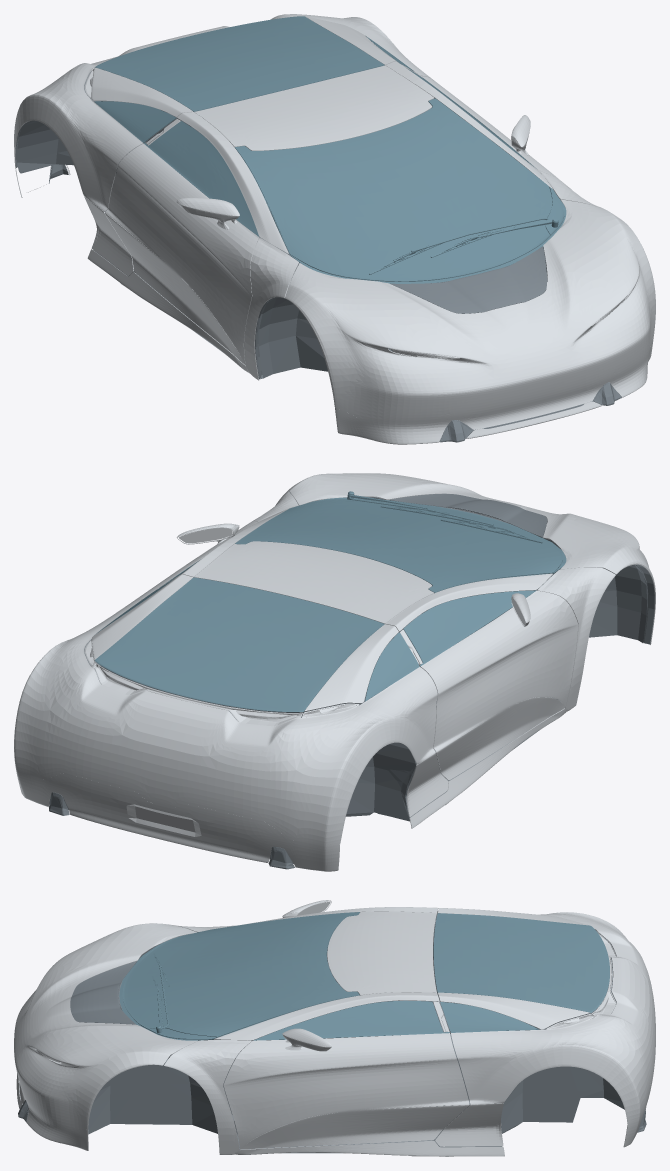
File: modular_base_clay.glb
3 views of the same model, one above another, from view 1: azimuth 30°, elevation 25°; view 2: azimuth 150°, elevation 25°; view 3: azimuth 270°, elevation 25° (orthographic). The views are drawn at different scales.
Visible parts, largest first — view 1: DONOR_BodyHood, DONOR_BodyWindshield, DONOR_BodyRearwindow, DONOR_BodyDoorRColor1, DONOR_BodyRearPanelsColor1, DONOR_BodyRoofPanel, DONOR_BodyPillars, DONOR_BodyUnderside, DONOR_BodyPanelsColor2, DONOR_BodyHoodTopgrill, DONOR_BodyDoorRWindow, DONOR_BodyDoorRColor2 (+6 smaller); view 2: DONOR_BodyRearPanelsColor1, DONOR_BodyRearwindow, DONOR_BodyWindshield, DONOR_BodyPanelsColor2, DONOR_BodyDoorRColor1, DONOR_BodyRoofPanel, DONOR_BodyHood, DONOR_BodyUnderside, DONOR_BodyPillars, DONOR_BodyDoorRColor2, DONOR_BodyDoorRWindow, DONOR_BodyHoodTopgrill (+5 smaller); view 3: DONOR_BodyWindshield, DONOR_BodyRearPanelsColor1, DONOR_BodyDoorLColor1, DONOR_BodyHood, DONOR_BodyRearwindow, DONOR_BodyUnderside, DONOR_BodyRoofPanel, DONOR_BodyPillars, DONOR_BodyDoorLColor2, DONOR_BodyPanelsColor2, DONOR_BodyDoorLWindow, DONOR_BodyHoodTopgrill (+7 smaller).
Part boxes in pixels (x1,y1,x2,y2): DONOR_BodyHood: (285, 199, 655, 444); DONOR_BodyWindshield: (235, 98, 551, 281); DONOR_BodyRearwindow: (95, 16, 384, 111); DONOR_BodyDoorRColor1: (105, 143, 258, 364); DONOR_BodyRearPanelsColor1: (14, 14, 431, 211); DONOR_BodyRoofPanel: (194, 65, 434, 150); DONOR_BodyPillars: (177, 61, 601, 380); DONOR_BodyUnderside: (16, 120, 327, 379); DONOR_BodyPanelsColor2: (15, 165, 654, 440); DONOR_BodyHoodTopgrill: (390, 246, 547, 313); DONOR_BodyDoorRWindow: (149, 121, 258, 235); DONOR_BodyDoorRColor2: (105, 213, 244, 364); DONOR_BodyRearPanelsColor1: (14, 574, 437, 847); DONOR_BodyRearwindow: (94, 577, 384, 712); DONOR_BodyWindshield: (235, 499, 562, 592); DONOR_BodyPanelsColor2: (16, 619, 654, 871); DONOR_BodyDoorRColor1: (420, 590, 578, 752); DONOR_BodyRoofPanel: (194, 541, 433, 623); DONOR_BodyHood: (286, 473, 655, 618); DONOR_BodyUnderside: (49, 564, 646, 869); DONOR_BodyPillars: (179, 491, 615, 711); DONOR_BodyDoorRColor2: (436, 697, 564, 780); DONOR_BodyDoorRWindow: (403, 590, 533, 662); DONOR_BodyHoodTopgrill: (390, 493, 547, 537); DONOR_BodyWindshield: (122, 912, 359, 1037); DONOR_BodyRearPanelsColor1: (438, 908, 655, 1124); DONOR_BodyDoorLColor1: (223, 1033, 469, 1149); DONOR_BodyHood: (14, 923, 197, 1143); DONOR_BodyRearwindow: (433, 913, 609, 1012); DONOR_BodyUnderside: (88, 1063, 646, 1134); DONOR_BodyRoofPanel: (327, 911, 436, 995); DONOR_BodyPillars: (164, 907, 439, 1154); DONOR_BodyDoorLColor2: (241, 1105, 469, 1149); DONOR_BodyPanelsColor2: (16, 1054, 655, 1156); DONOR_BodyDoorLWindow: (256, 1000, 442, 1039); DONOR_BodyHoodTopgrill: (70, 961, 136, 1024).
Size of the model in its own units: 2.34 by 1.06 by 4.36.
